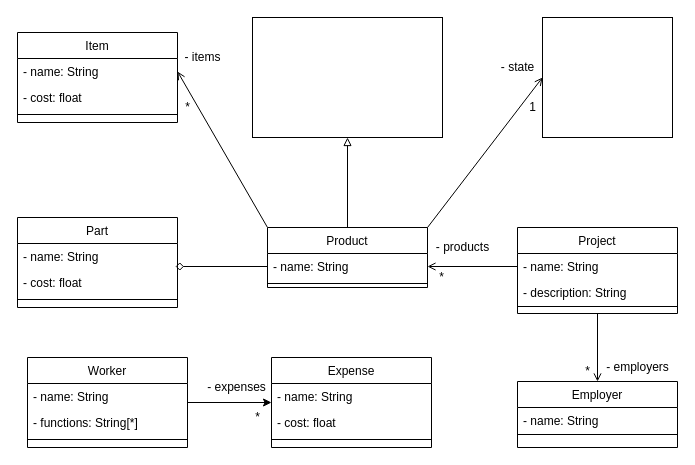
Image size: 695x465. Some labels were removed from this diagram. Each missing label, with the centre of its shape:
"<<Enum>> State PAYED DELAYED CANCELED BUDGETED" goes at point (607, 77).
"<<Interface>> Valuable + getItems(): Item[*] + getInformation(): String" goes at point (347, 77).
